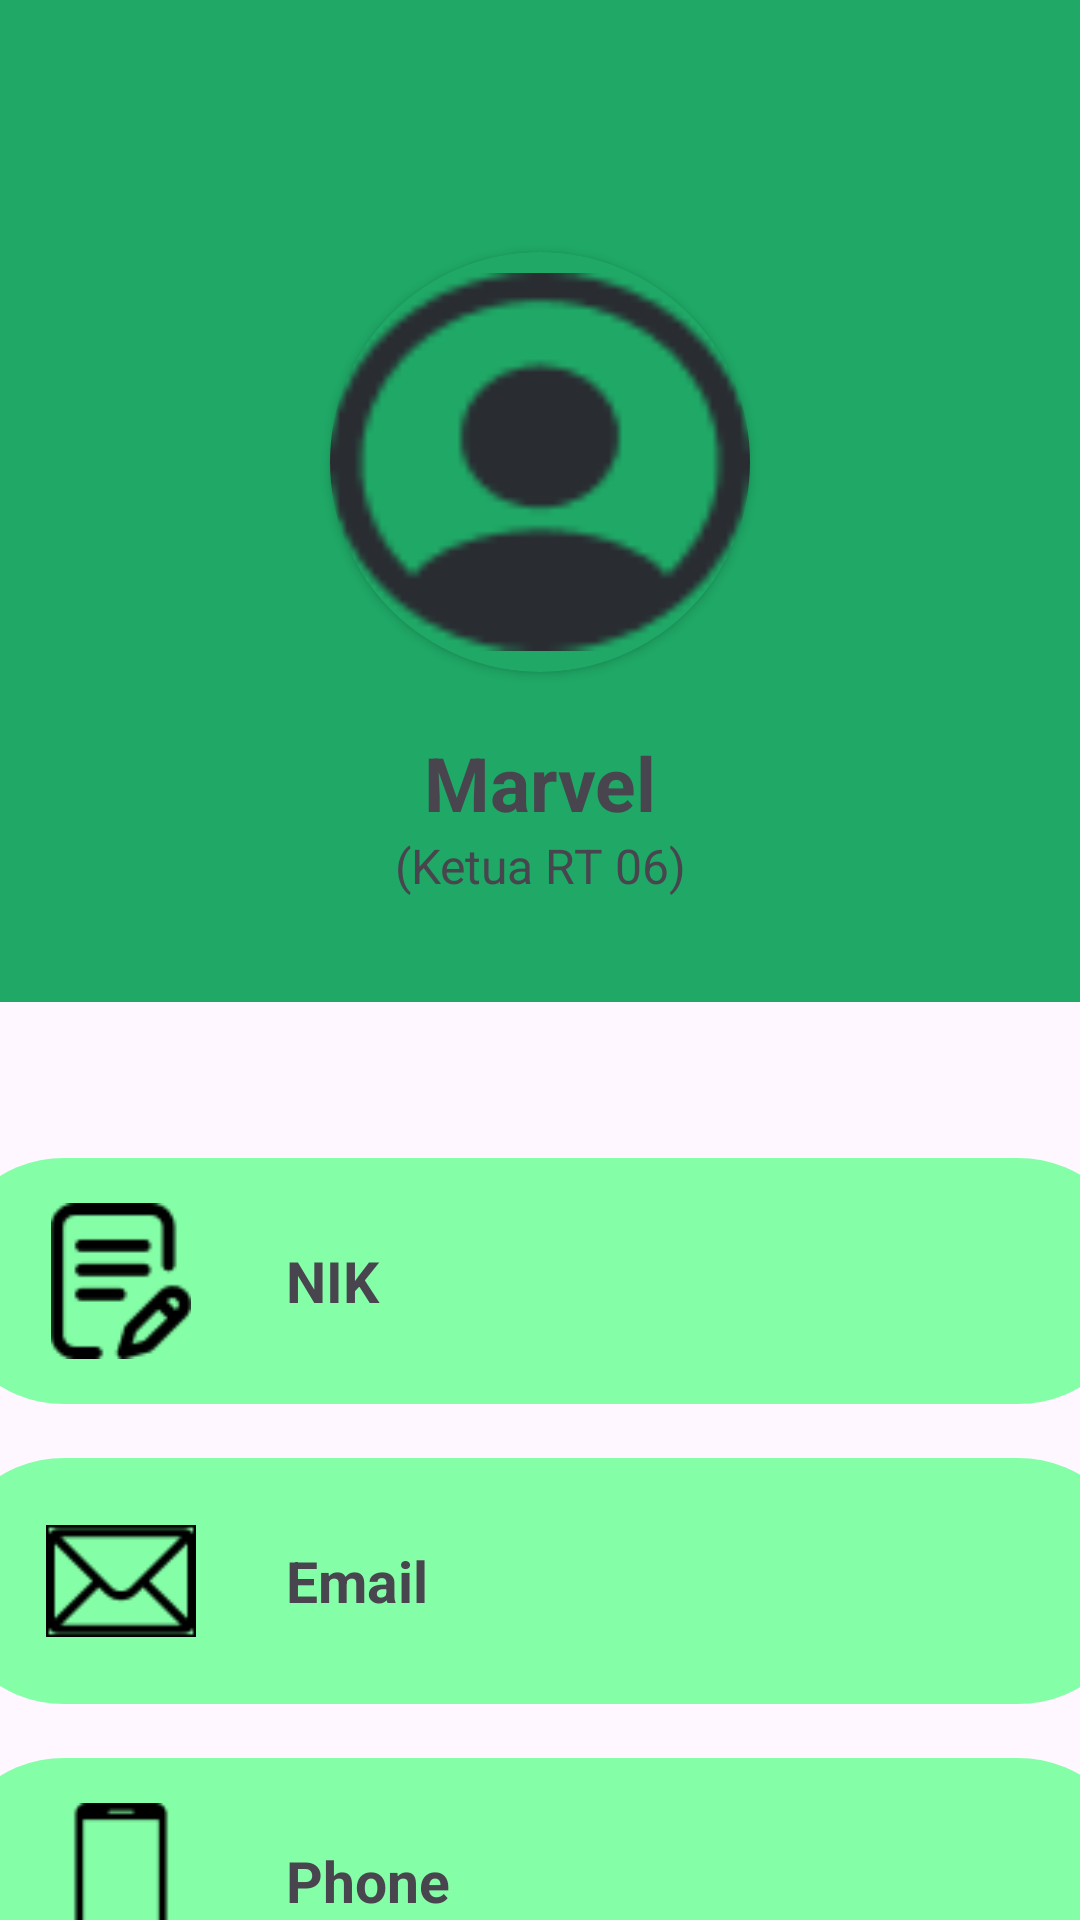

Icons on this 1080 x 1920 Android screen, each with its box as (x1, y1, x2, y2):
writing: (1, 1158, 241, 1404)
